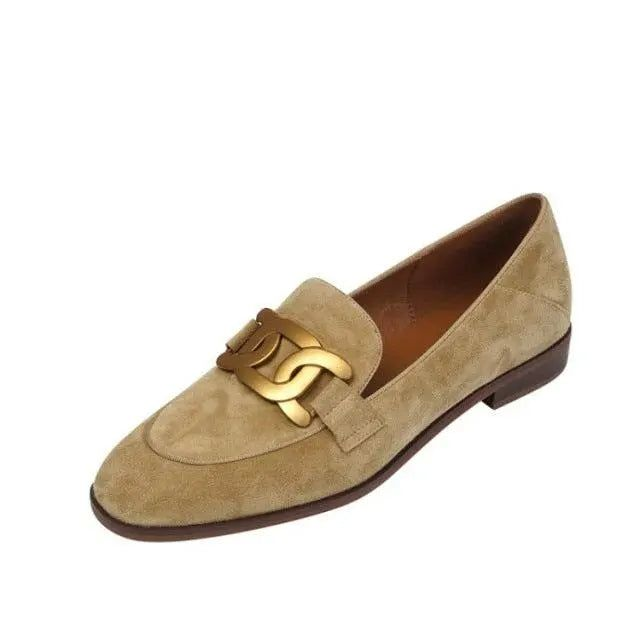gamuza: (91, 193, 573, 526)
